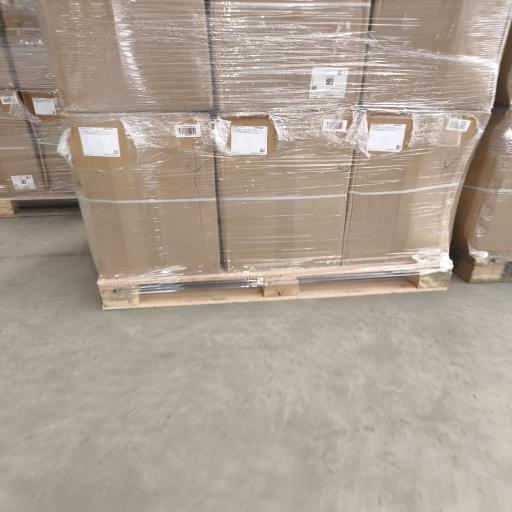pallet: (98, 265, 451, 309), (451, 246, 511, 283), (0, 194, 80, 217)
